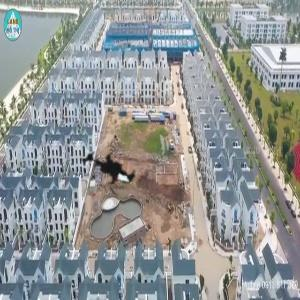drone: (63, 129, 152, 218)
